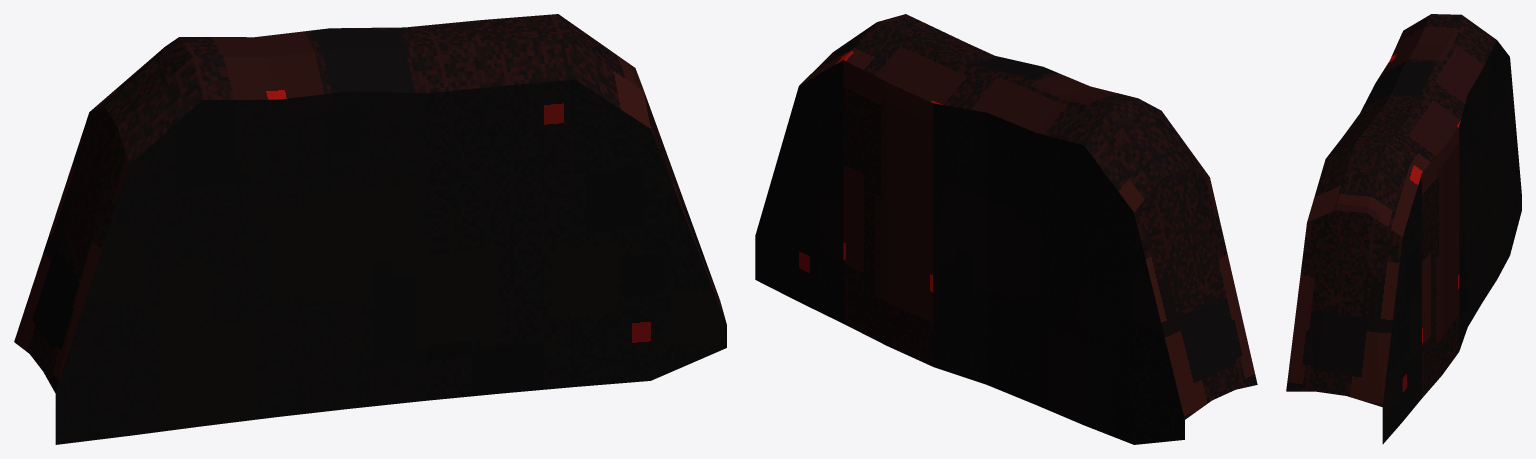
File: map_base_lip286.glb
3 renders of one model, left to right at view 1: azimuth 30°, elevation 25°; view 2: azimuth 150°, elevation 25°; view 3: azimuth 270°, elevation 25°, orthographic. The views are drawn at different scales.
Visible parts, largest first — view 1: MapBaseLip286Rock; view 2: MapBaseLip286Rock; view 3: MapBaseLip286Rock.
Part boxes in pixels (x1,y1,x2,y2): MapBaseLip286Rock: [14, 14, 726, 444]; MapBaseLip286Rock: [755, 14, 1257, 444]; MapBaseLip286Rock: [1286, 14, 1521, 444].
Size of what is drawn, in the model's own units: 8.17 by 4.5 by 3.68.
2 materials, 2 textured.
